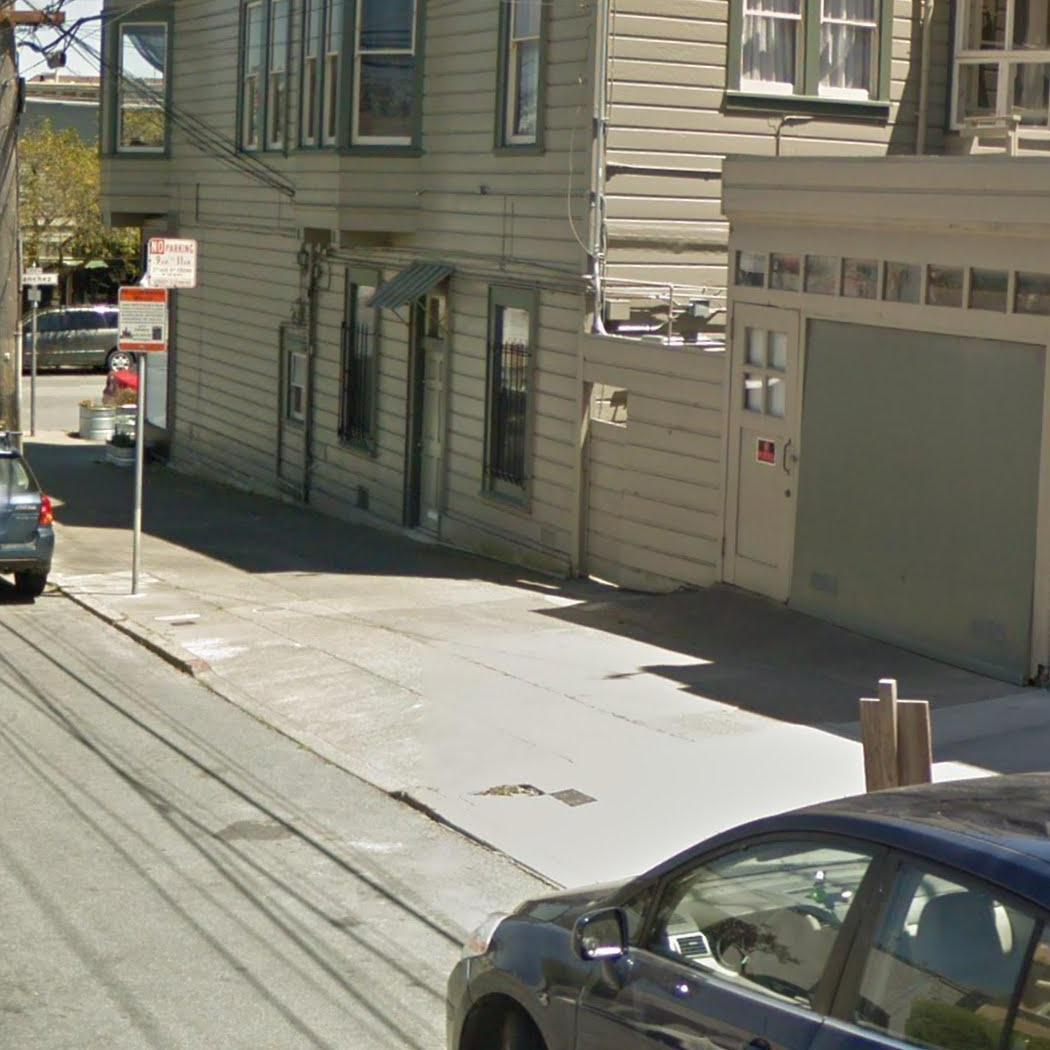No Parking: (144, 234, 200, 292)
